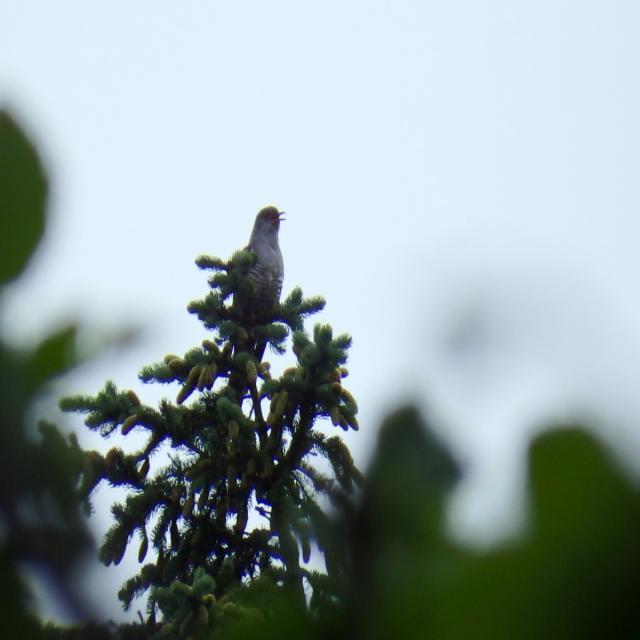bird: (190, 200, 296, 360)
